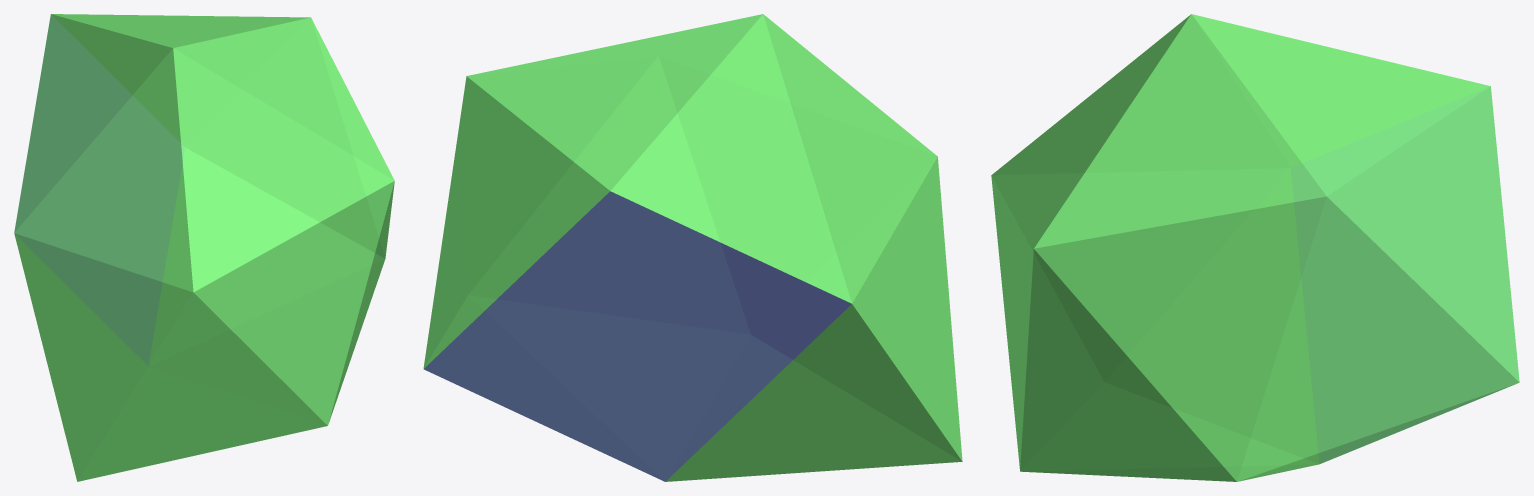
The model's file is j87_augmented_sphenocorona.obj.
3 views of the same model, side by side, from view 1: azimuth 30°, elevation 25°; view 2: azimuth 150°, elevation 25°; view 3: azimuth 270°, elevation 25° (orthographic). The views are drawn at different scales.
Size of the model in its own units: 1.72 by 1.7 by 1.83.
